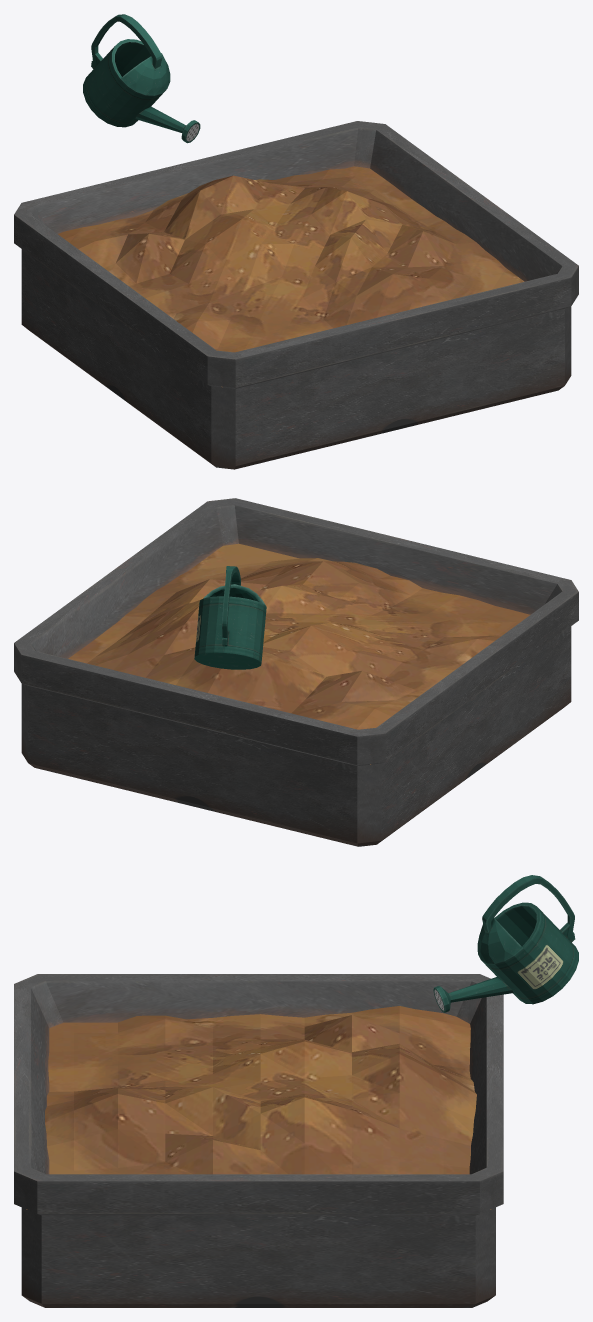
File: P_FlowerPot_006_S1_M02_Big.obj
3 views of the same model, one above another, from view 1: azimuth 30°, elevation 25°; view 2: azimuth 150°, elevation 25°; view 3: azimuth 270°, elevation 25° (orthographic). The views are drawn at different scales.
Bounding box in the file's own units: 2 × 1.37 × 2.3.
Materials: 3 (3 with a texture image).
